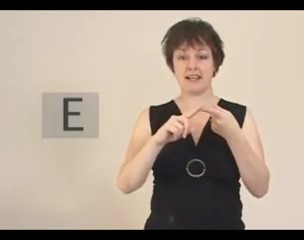E: (150, 100, 239, 146)
